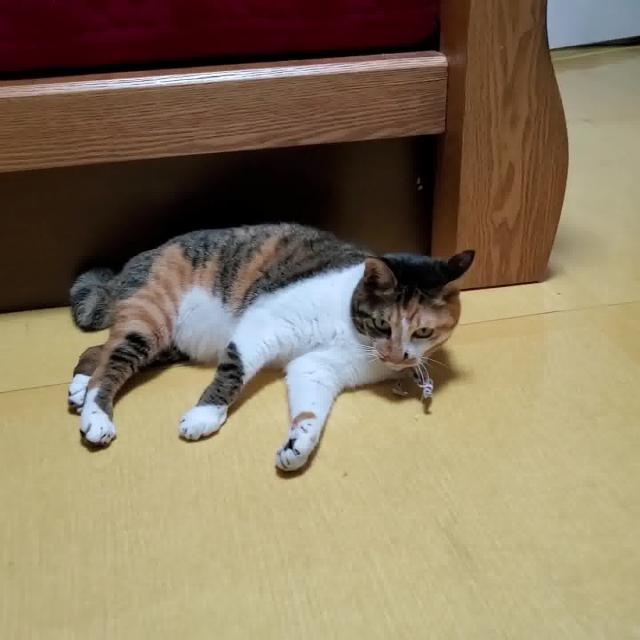cat: (50, 210, 484, 481)
